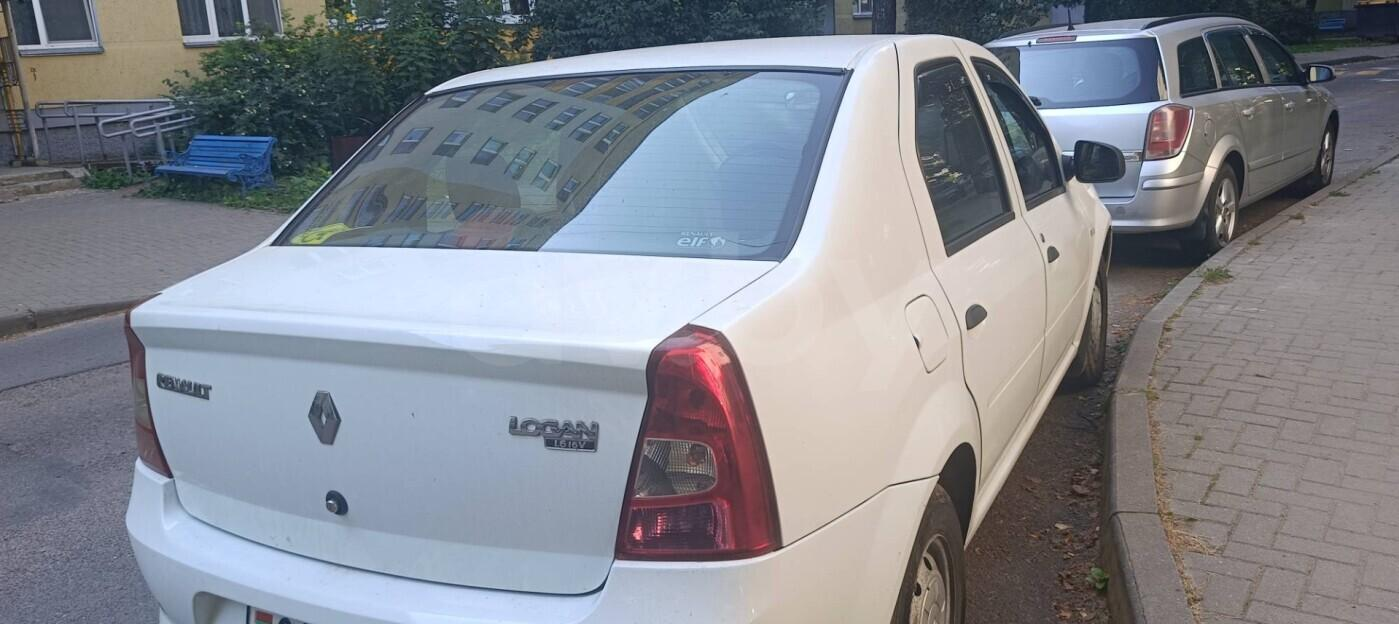Logan_2008-2015: (121, 28, 1117, 624)
